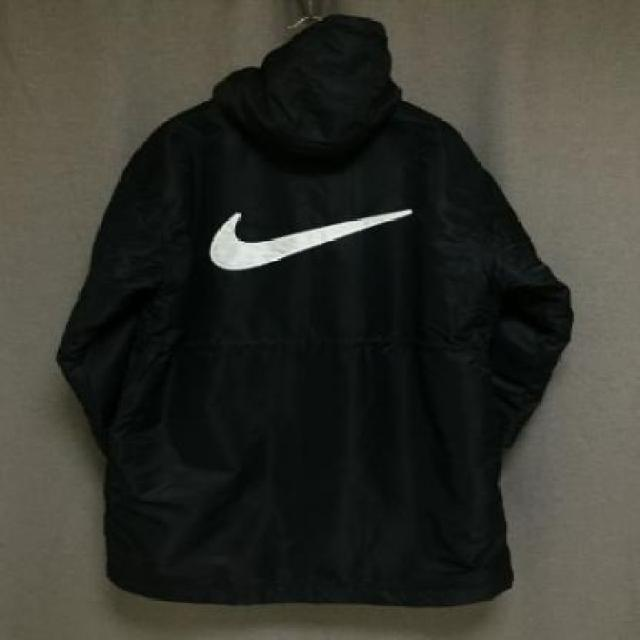Nike: (207, 208, 410, 270)
